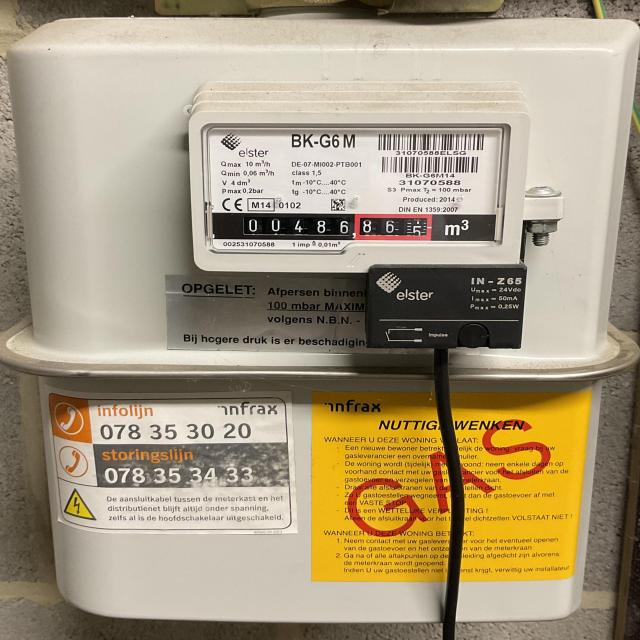gaz_meter: (205, 123, 503, 246)
indication: (234, 212, 432, 241)
